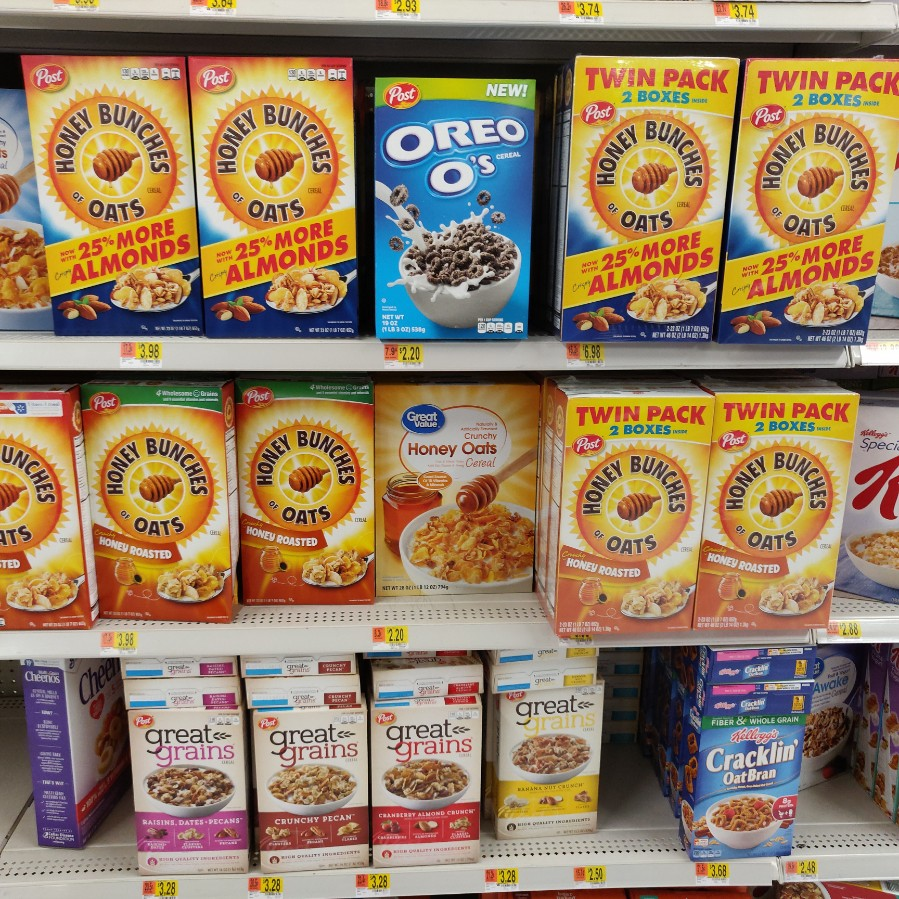Oreo-563424384: (372, 76, 537, 343)
